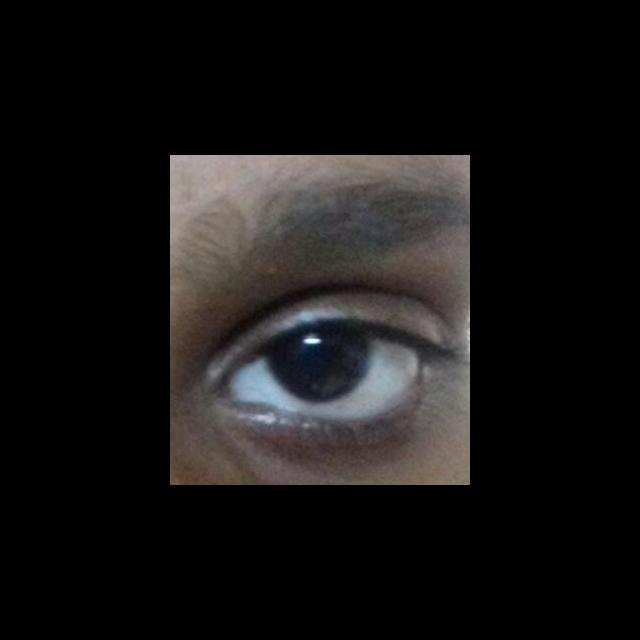eye: (229, 324, 423, 422)
iris: (263, 328, 372, 403)
